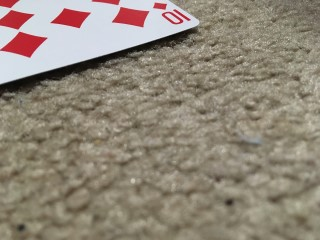TenOfDiamonds: (1, 1, 200, 86)
